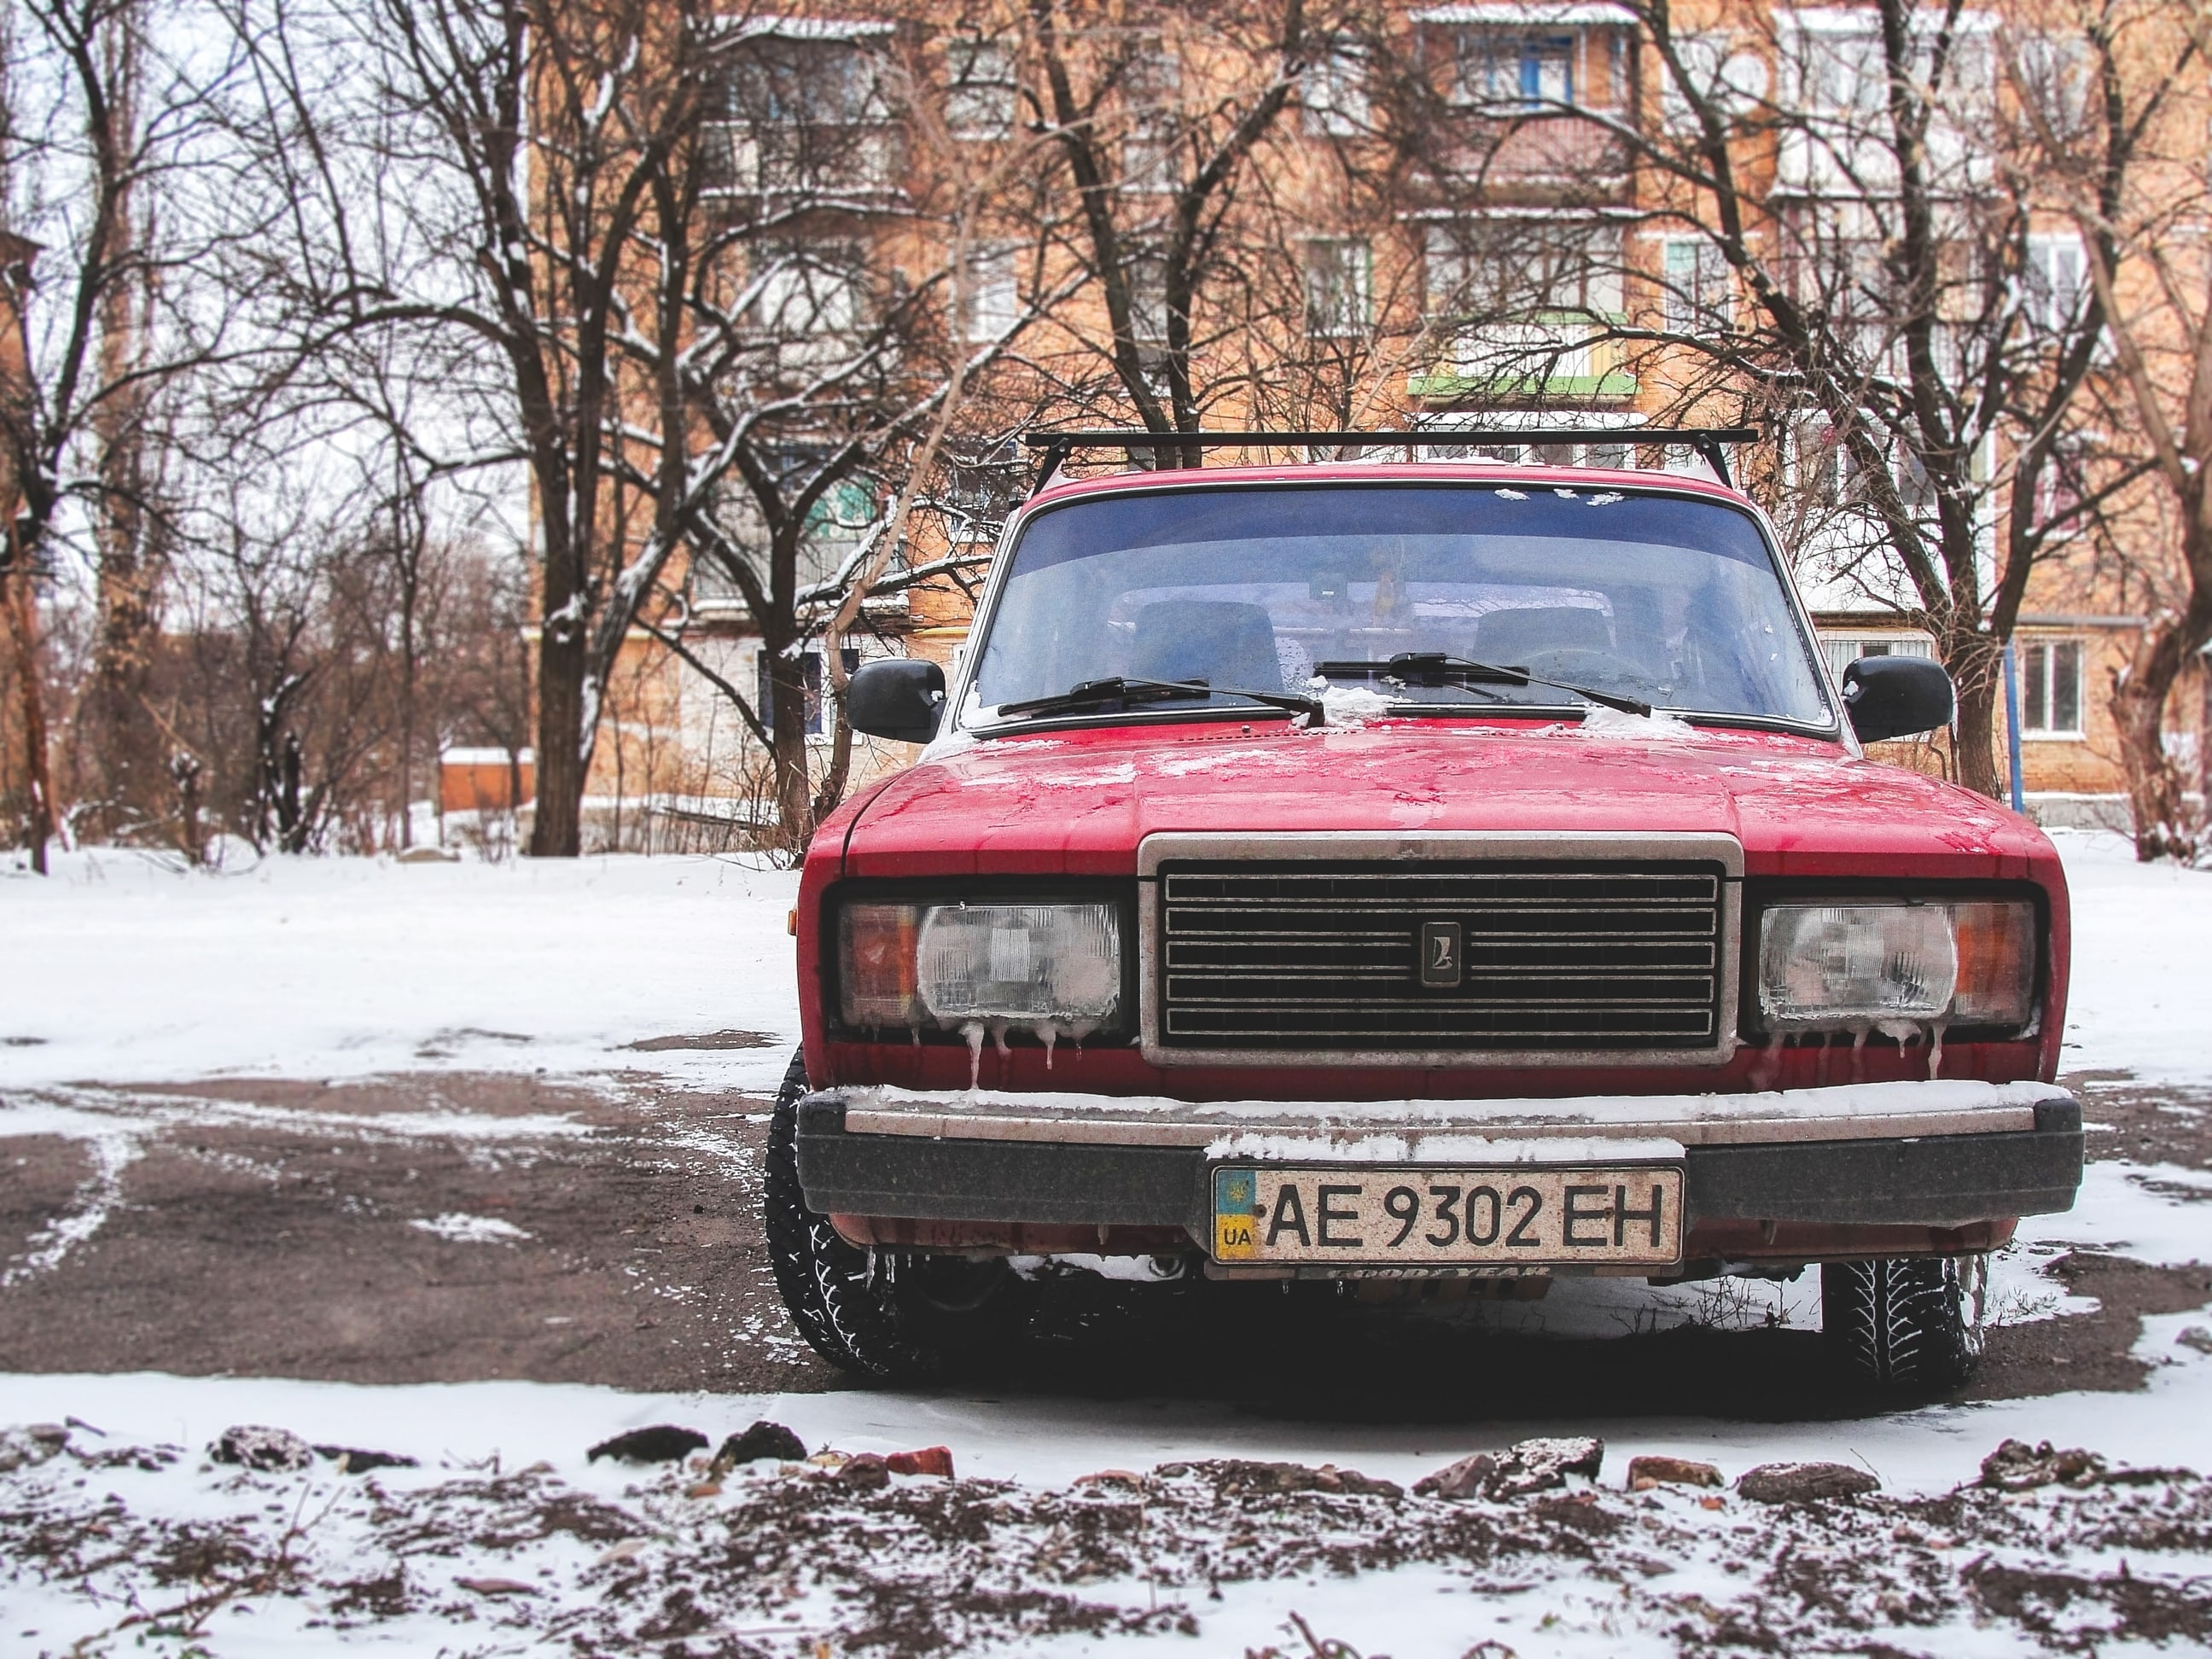plaka: (1208, 1157, 1692, 1278)
